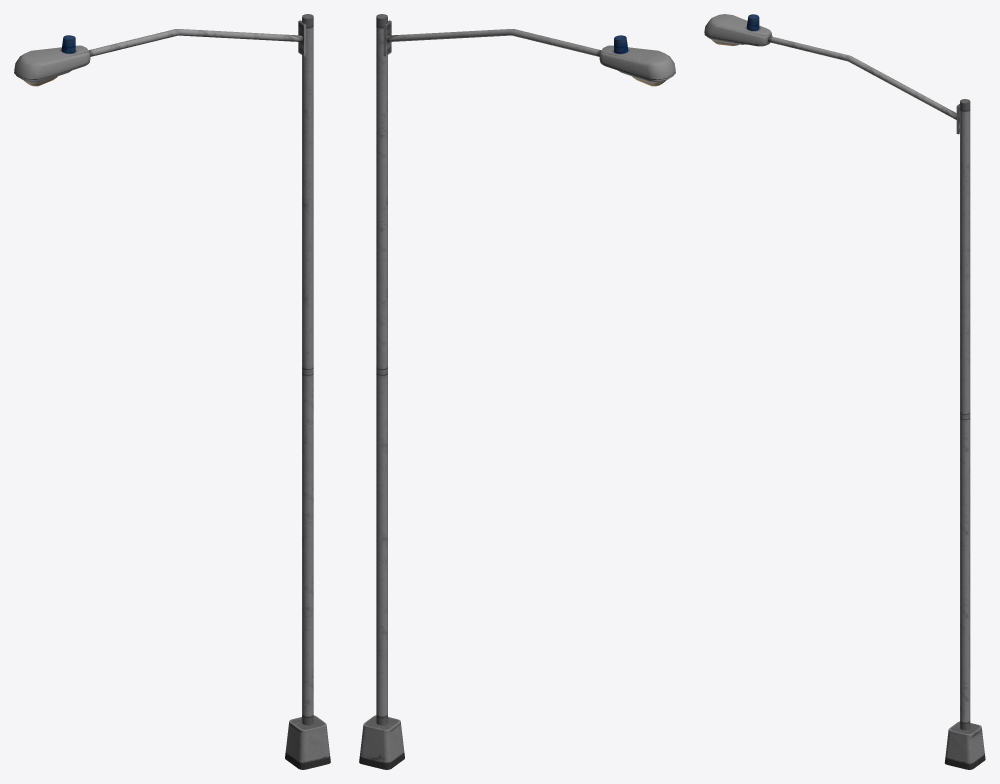
Rendered from HH_Street_Lamp.fbx.
The picture shows the model from 3 angles, left to right: view 1: azimuth 30°, elevation 25°; view 2: azimuth 150°, elevation 25°; view 3: azimuth 330°, elevation 25°; orthographic projection. The views are drawn at different scales.
Visible parts, largest first — view 1: HH_Street_Lamp_LOD0; view 2: HH_Street_Lamp_LOD0; view 3: HH_Street_Lamp_LOD0.
Part boxes in pixels (x1,y1,x2,y2): HH_Street_Lamp_LOD0: [14, 14, 330, 769]; HH_Street_Lamp_LOD0: [359, 14, 675, 769]; HH_Street_Lamp_LOD0: [704, 14, 985, 769].
Size of what is drawn, in the model's own units: 253 by 616 by 28.59.
